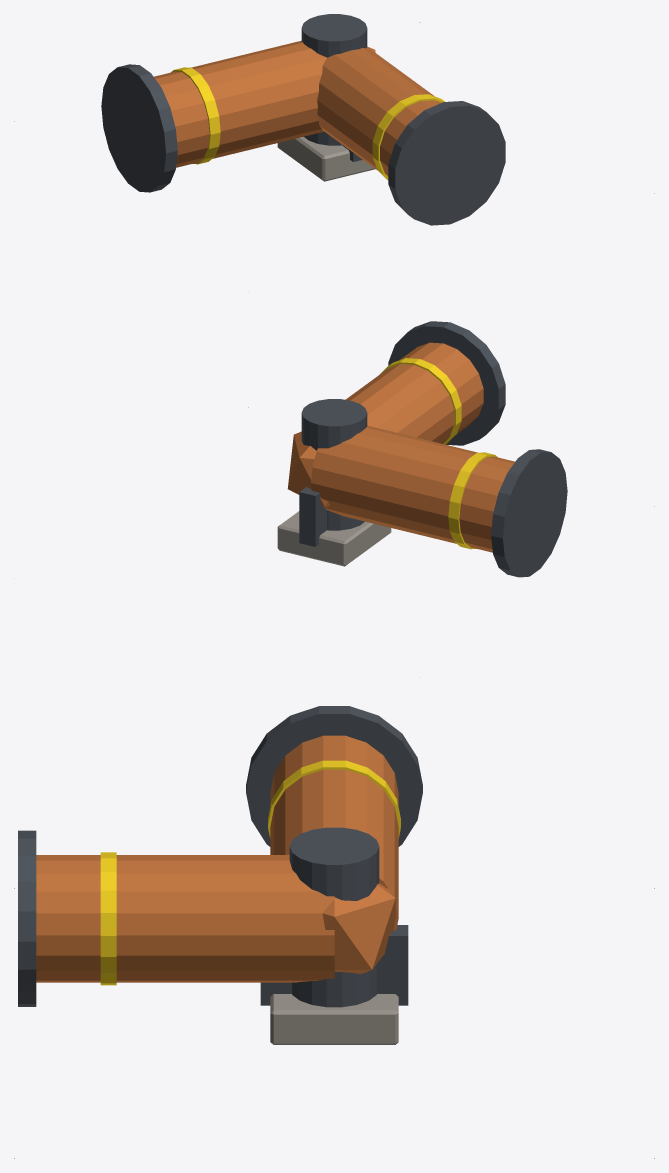
The model's file is tuyau_coude_t1.glb.
3 views of the same model, one above another, from view 1: azimuth 30°, elevation 25°; view 2: azimuth 150°, elevation 25°; view 3: azimuth 270°, elevation 25° (orthographic). The views are drawn at different scales.
Parts seen in each view (by area): view 1: pieces_cuivre.016, pieces_acier_sombre.044, pieces_beton.044, pieces_rive_t1.014; view 2: pieces_cuivre.016, pieces_acier_sombre.044, pieces_beton.044, pieces_rive_t1.014; view 3: pieces_cuivre.016, pieces_acier_sombre.044, pieces_beton.044, pieces_rive_t1.014.
Boxes of the visible parts, x1,y1,x2,y2 form: pieces_cuivre.016: (154,40,440,176); pieces_acier_sombre.044: (101,14,505,225); pieces_beton.044: (277,137,375,181); pieces_rive_t1.014: (171,67,445,180); pieces_cuivre.016: (287,342,514,552); pieces_acier_sombre.044: (299,321,567,577); pieces_beton.044: (277,511,391,566); pieces_rive_t1.014: (380,358,497,549); pieces_cuivre.016: (36,735,398,982); pieces_acier_sombre.044: (18,706,422,1007); pieces_beton.044: (270,994,398,1044); pieces_rive_t1.014: (100,760,400,985).
Bounding box in the file's own units: 1 × 0.318 × 1.
